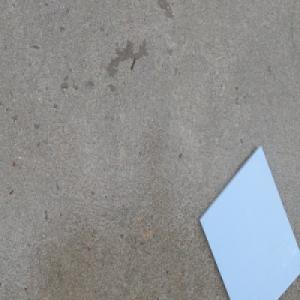PaintChip: (196, 141, 300, 300)
